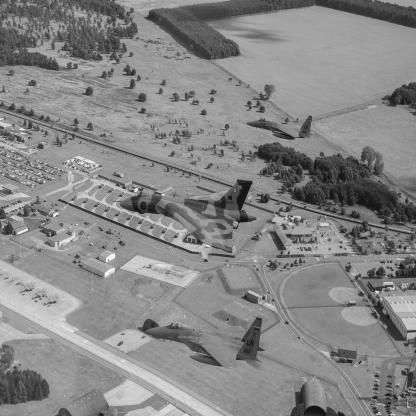F15: (146, 316, 270, 372), (247, 116, 316, 142), (46, 293, 62, 306), (22, 281, 38, 293), (34, 288, 50, 300)
Vulcan: (112, 180, 258, 252)
